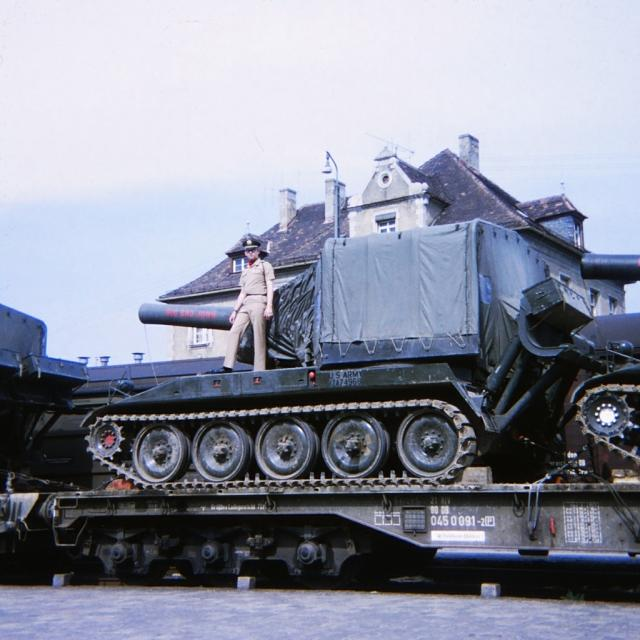tank: (79, 217, 639, 485)
